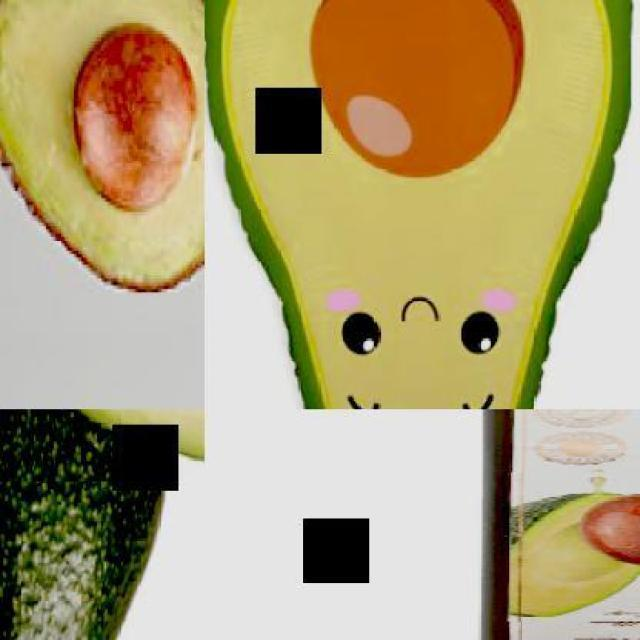Spinach: (356, 137, 584, 631)
